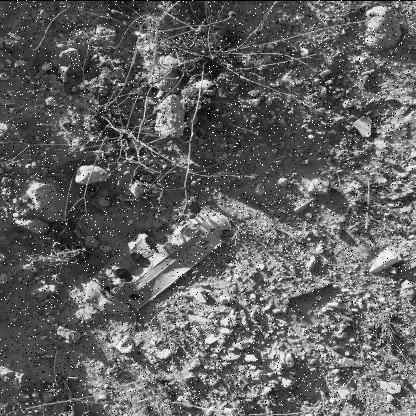cardboard: (83, 204, 232, 314)
